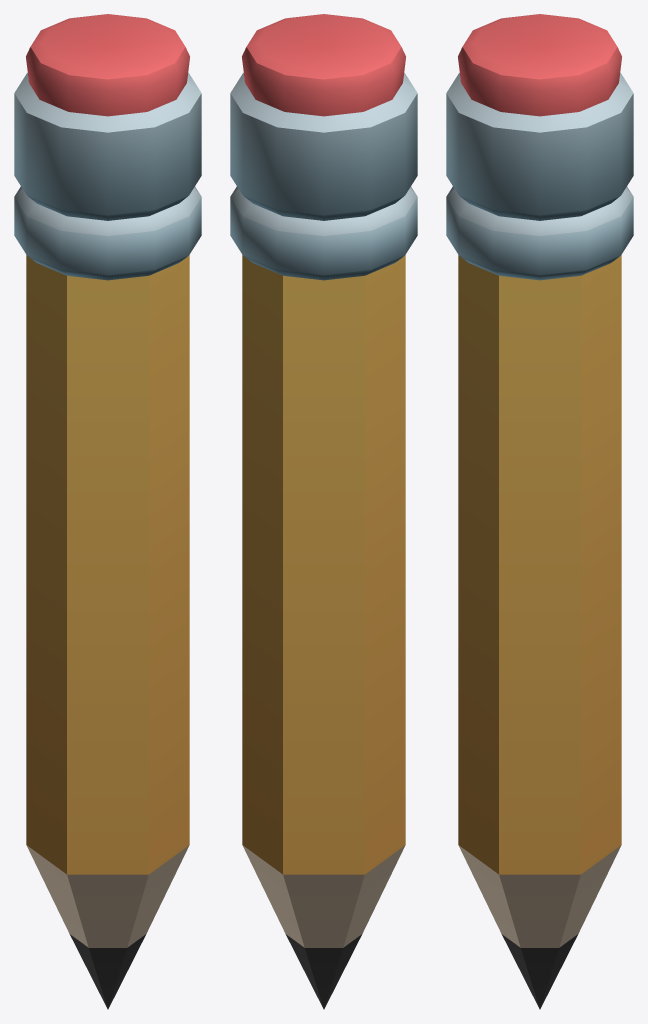
File: pencil_B_long.glb
3 renders of one model, left to right at view 1: azimuth 30°, elevation 25°; view 2: azimuth 150°, elevation 25°; view 3: azimuth 270°, elevation 25°, orthographic.
Visible parts, largest first — view 1: pencil_B_long; view 2: pencil_B_long; view 3: pencil_B_long.
Boxes of the visible parts, x1,y1,x2,y2 form: pencil_B_long: (14,14,201,1009); pencil_B_long: (230,14,417,1009); pencil_B_long: (446,14,633,1009).
Size of the model in its own units: 0.1138 by 0.6485 by 0.1138.
1 material, 1 textured.
